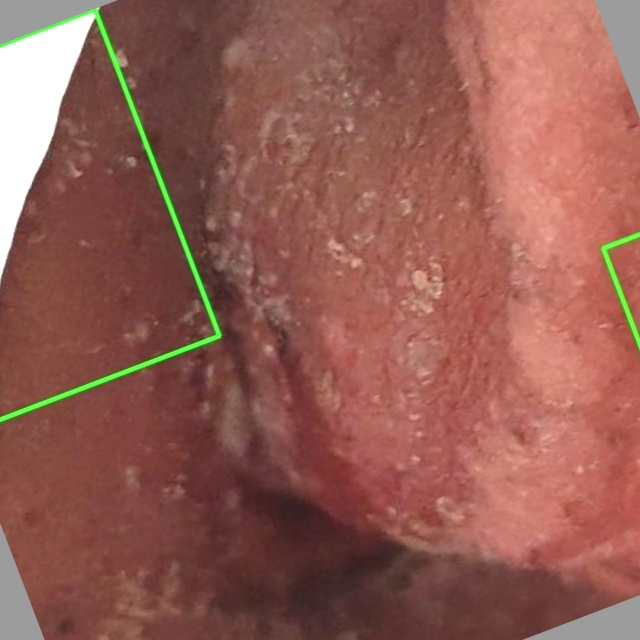Contact Dermatitis: (0, 9, 219, 419)
